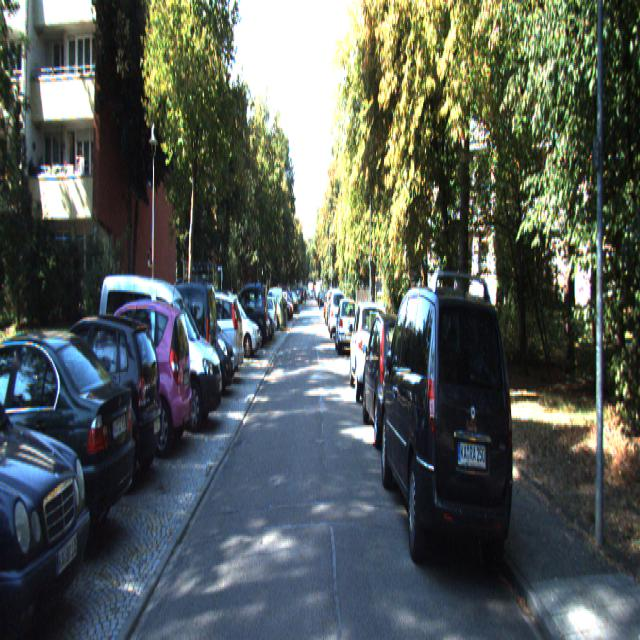Car: (379, 265, 516, 590), (0, 323, 140, 570), (0, 322, 97, 639), (19, 306, 167, 488), (96, 269, 222, 436), (79, 295, 194, 463), (131, 276, 218, 414), (360, 306, 426, 448), (163, 292, 243, 391), (160, 300, 236, 404), (349, 300, 392, 407), (206, 293, 261, 359), (223, 280, 268, 350), (335, 299, 358, 358), (329, 290, 346, 340)
